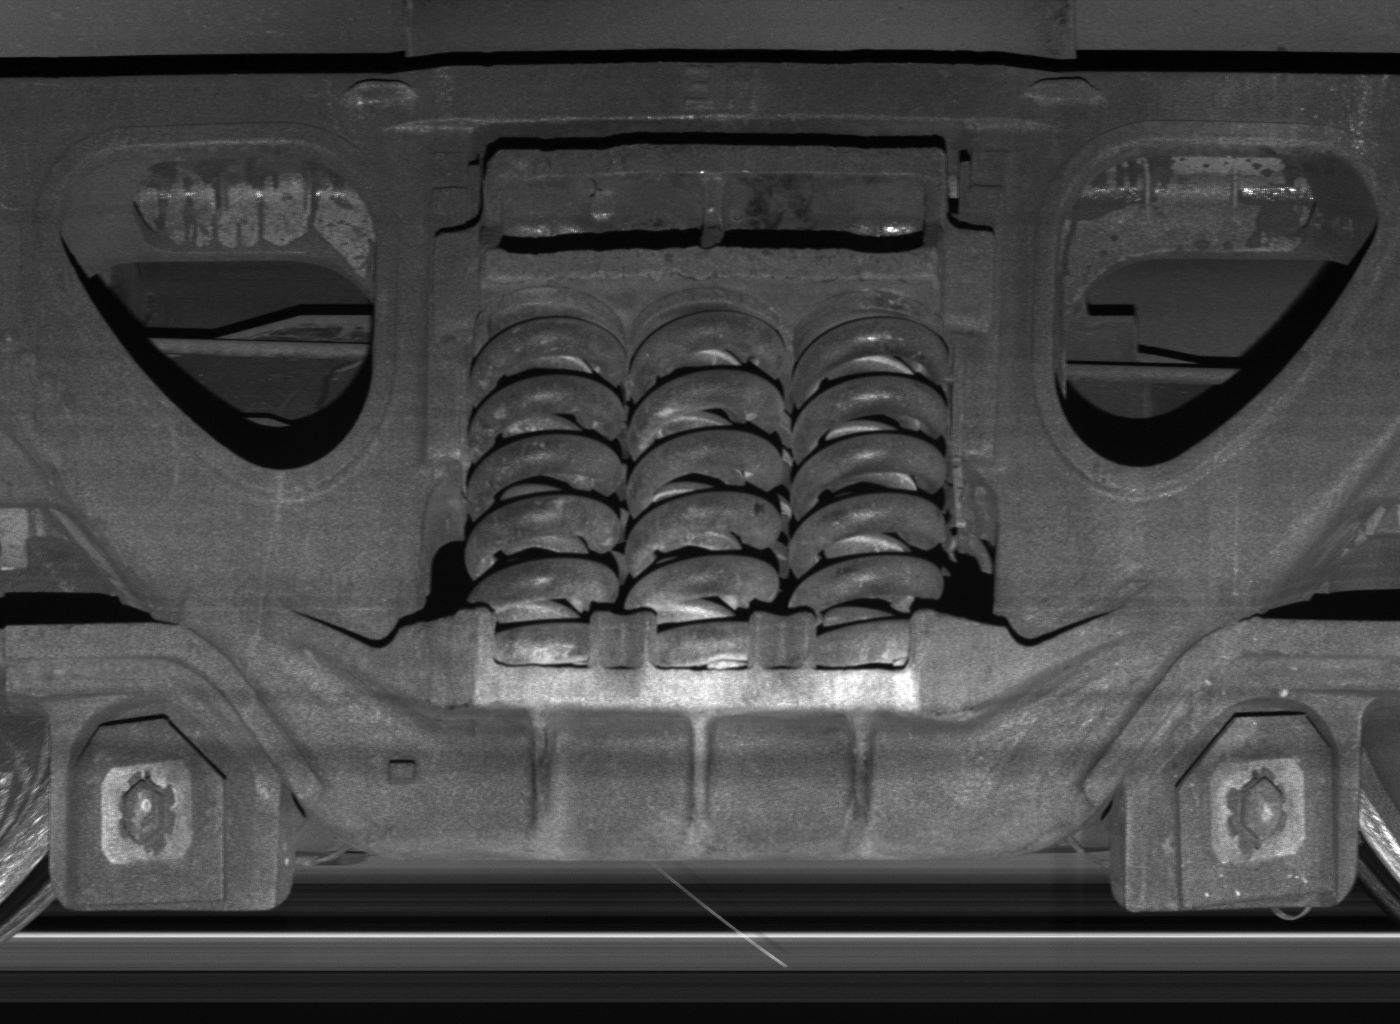normal: (1132, 694, 1360, 914), (50, 695, 275, 914)
